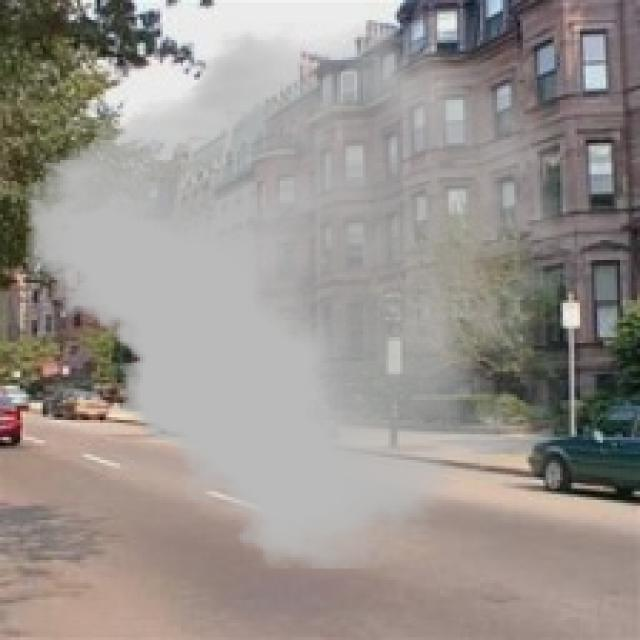Smoke: (26, 22, 574, 568)
